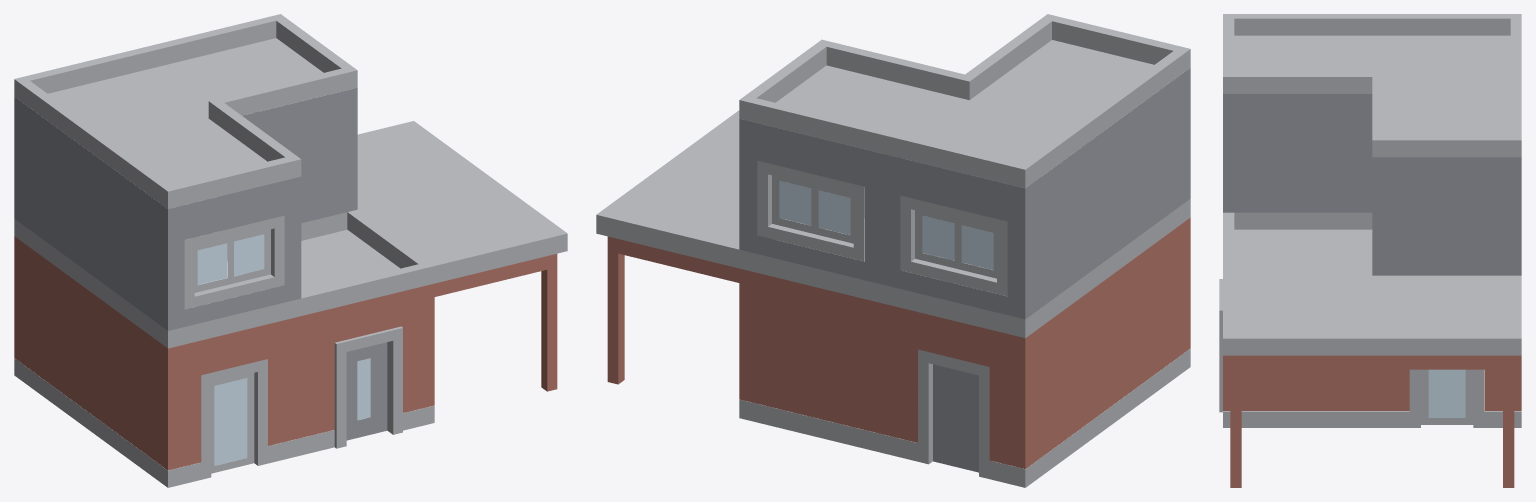
File: house_textures.gltf
The picture shows the model from 3 angles, left to right: view 1: azimuth 30°, elevation 25°; view 2: azimuth 150°, elevation 25°; view 3: azimuth 270°, elevation 25°; orthographic projection. The views are drawn at different scales.
Visible parts, largest first — view 1: house_type19; view 2: house_type19; view 3: house_type19.
Part boxes in pixels (<box>): house_type19: <box>14,14,567,487</box>; house_type19: <box>596,14,1190,487</box>; house_type19: <box>1219,14,1521,487</box>.
Size of the model in its own units: 1.2 by 0.85 by 0.8102.
